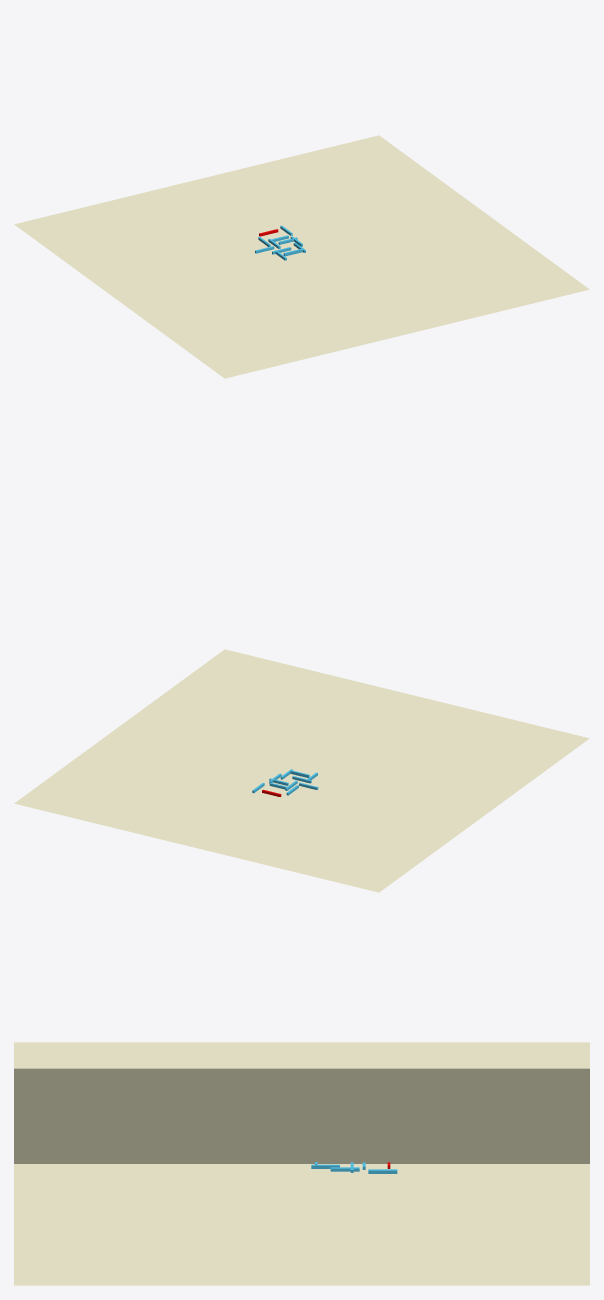
3 renders of one model, top to bottom at view 1: azimuth 30°, elevation 25°; view 2: azimuth 150°, elevation 25°; view 3: azimuth 270°, elevation 25°, orthographic. The views are drawn at different scales.
Size of the model in its own units: 200 by 140 by 200.
